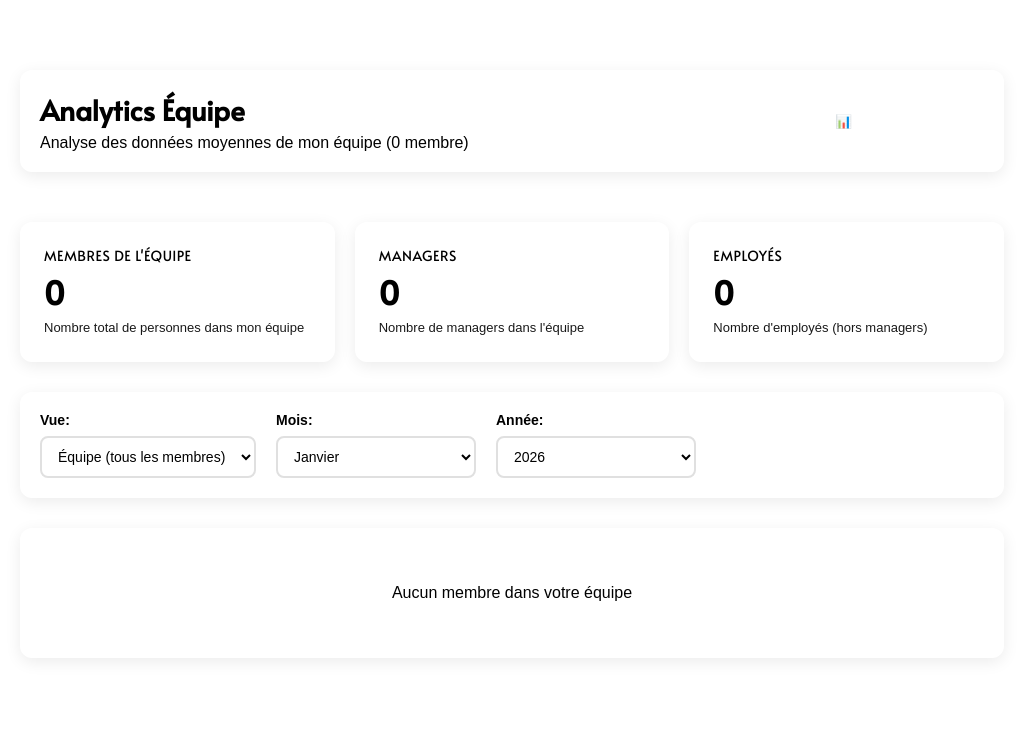
Test: ManagerAnalytics Component › Disables export button during export
Click the button with test id "export-button" at (898, 121), box [811,102,984,140]
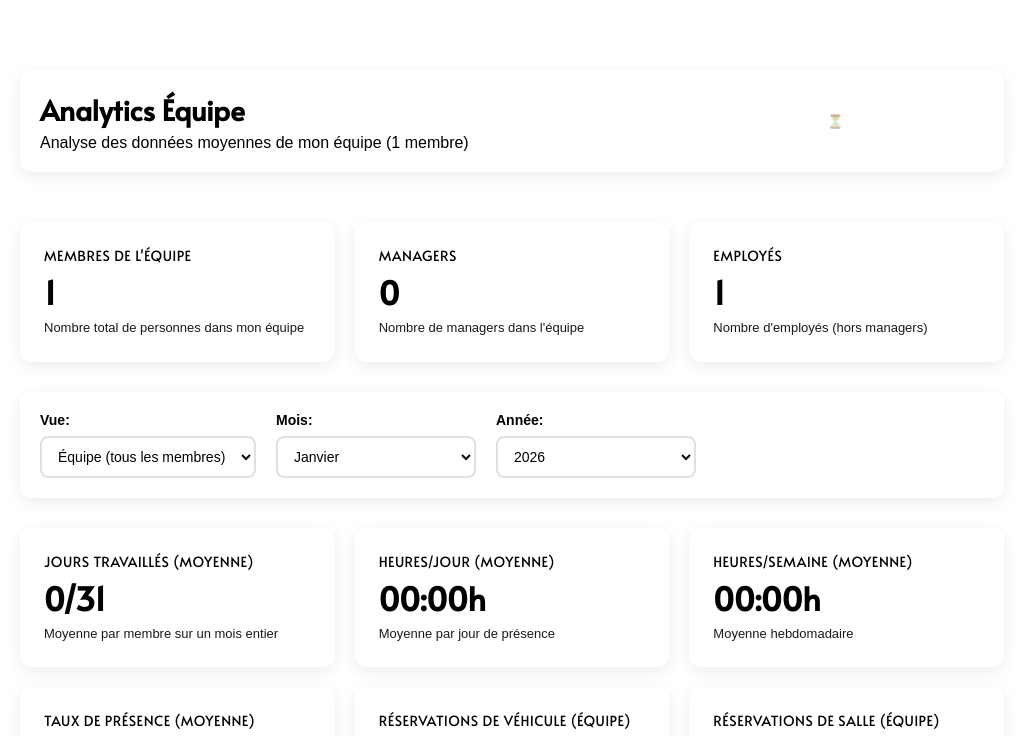
Expected: the button with test id "export-button" is disabled, [803,102,984,140]
